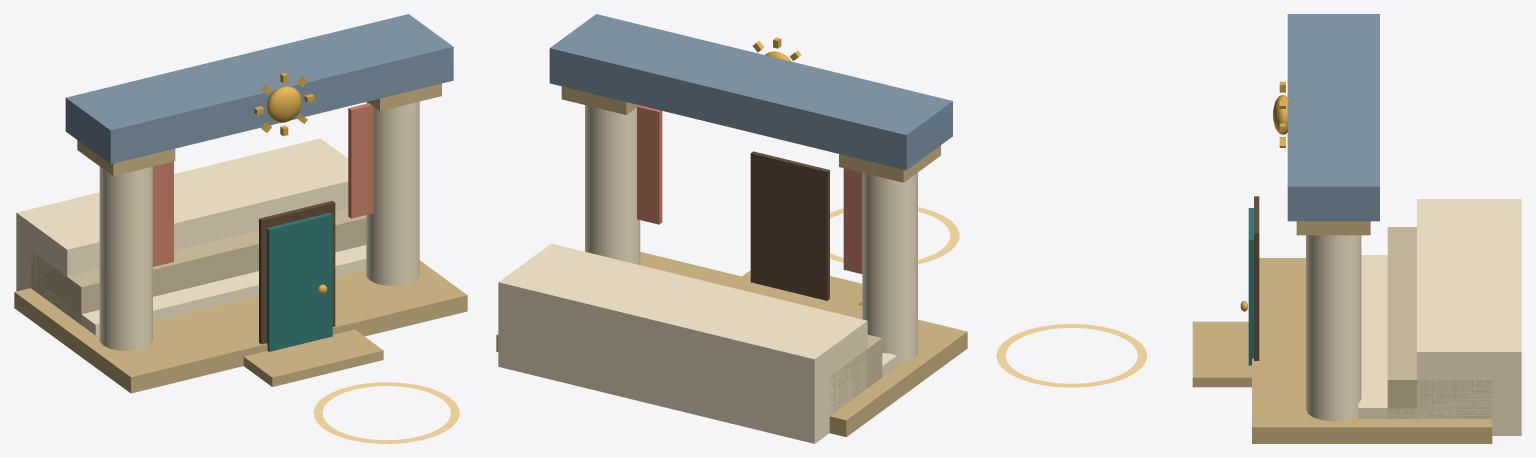
File: arena-amphitheatre.glb
The picture shows the model from 3 angles, left to right: view 1: azimuth 30°, elevation 25°; view 2: azimuth 150°, elevation 25°; view 3: azimuth 270°, elevation 25°; orthographic projection. The views are drawn at different scales.
Parts seen in each view (by area): view 1: arena-amphitheatre, door, chapter-marker; view 2: arena-amphitheatre, chapter-marker; view 3: arena-amphitheatre, chapter-marker, door.
Part boxes in pixels (x1=…): arena-amphitheatre: x1=14, y1=14, x2=467, y2=393; door: x1=266, y1=213, x2=332, y2=351; chapter-marker: x1=313, y1=382, x2=459, y2=443; arena-amphitheatre: x1=496, y1=14, x2=967, y2=443; chapter-marker: x1=830, y1=207, x2=959, y2=264; arena-amphitheatre: x1=1192, y1=14, x2=1521, y2=443; chapter-marker: x1=996, y1=324, x2=1146, y2=387; door: x1=1240, y1=208, x2=1253, y2=365.
Size of the model in its own units: 2.65 by 1.97 by 3.41.
